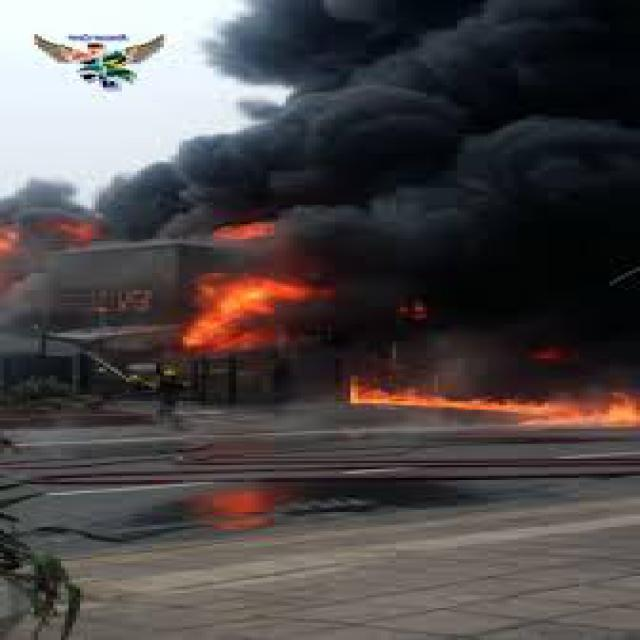Fire: (170, 226, 312, 360), (335, 364, 640, 426)
Smoke: (232, 0, 632, 275)
